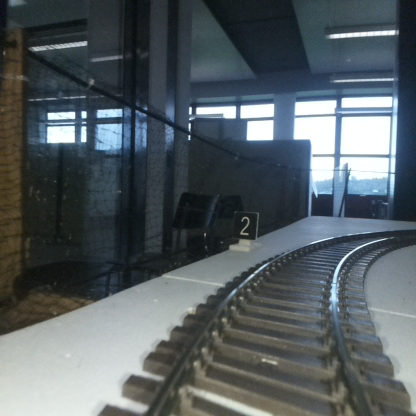black-stop-2: (233, 212, 257, 250)
